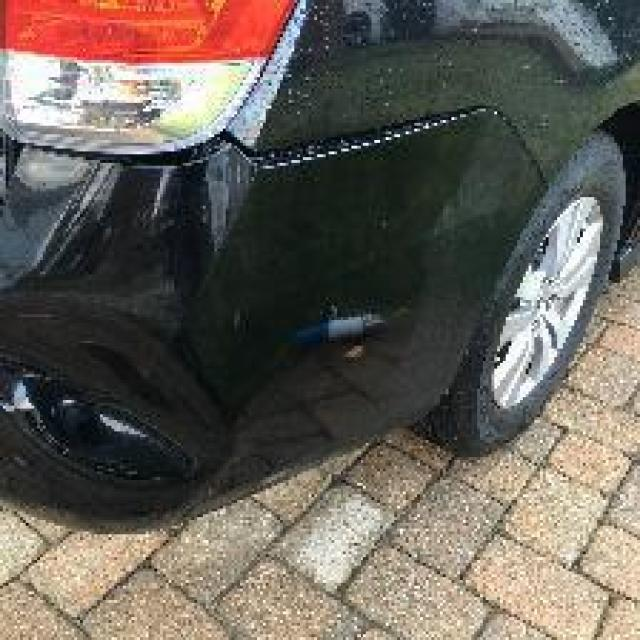damaged: (17, 143, 266, 340)
